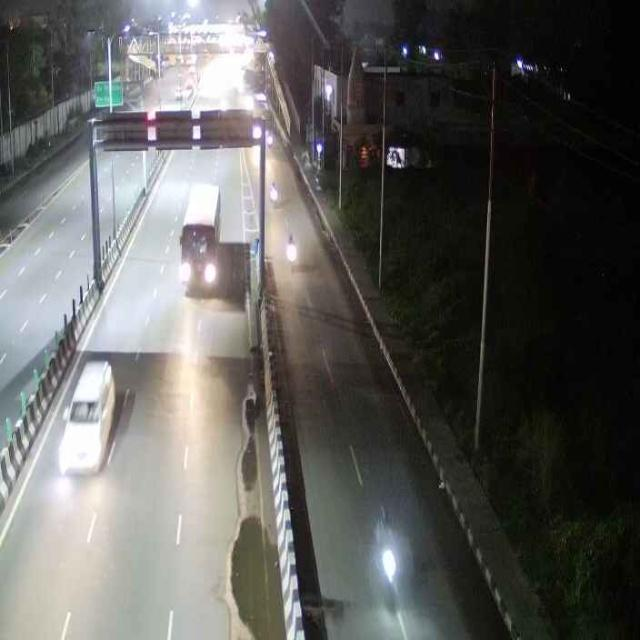car: (55, 354, 121, 475)
